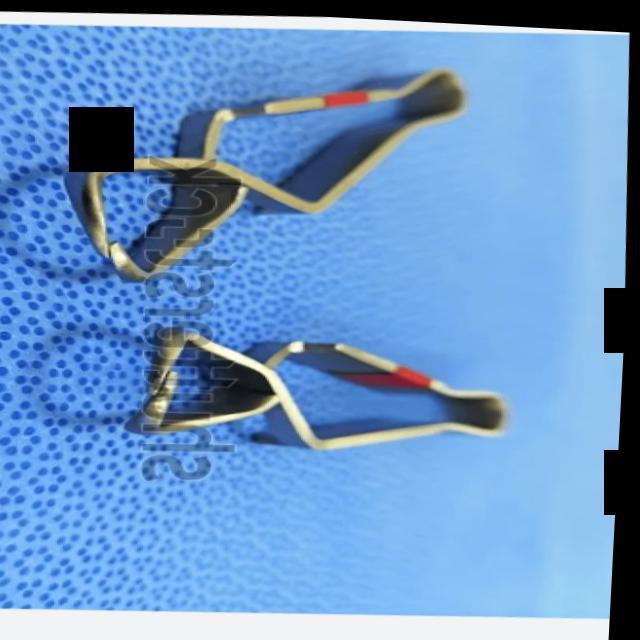Doyen Cross Action Towel Clamp: (62, 46, 510, 306), (133, 312, 524, 461)
